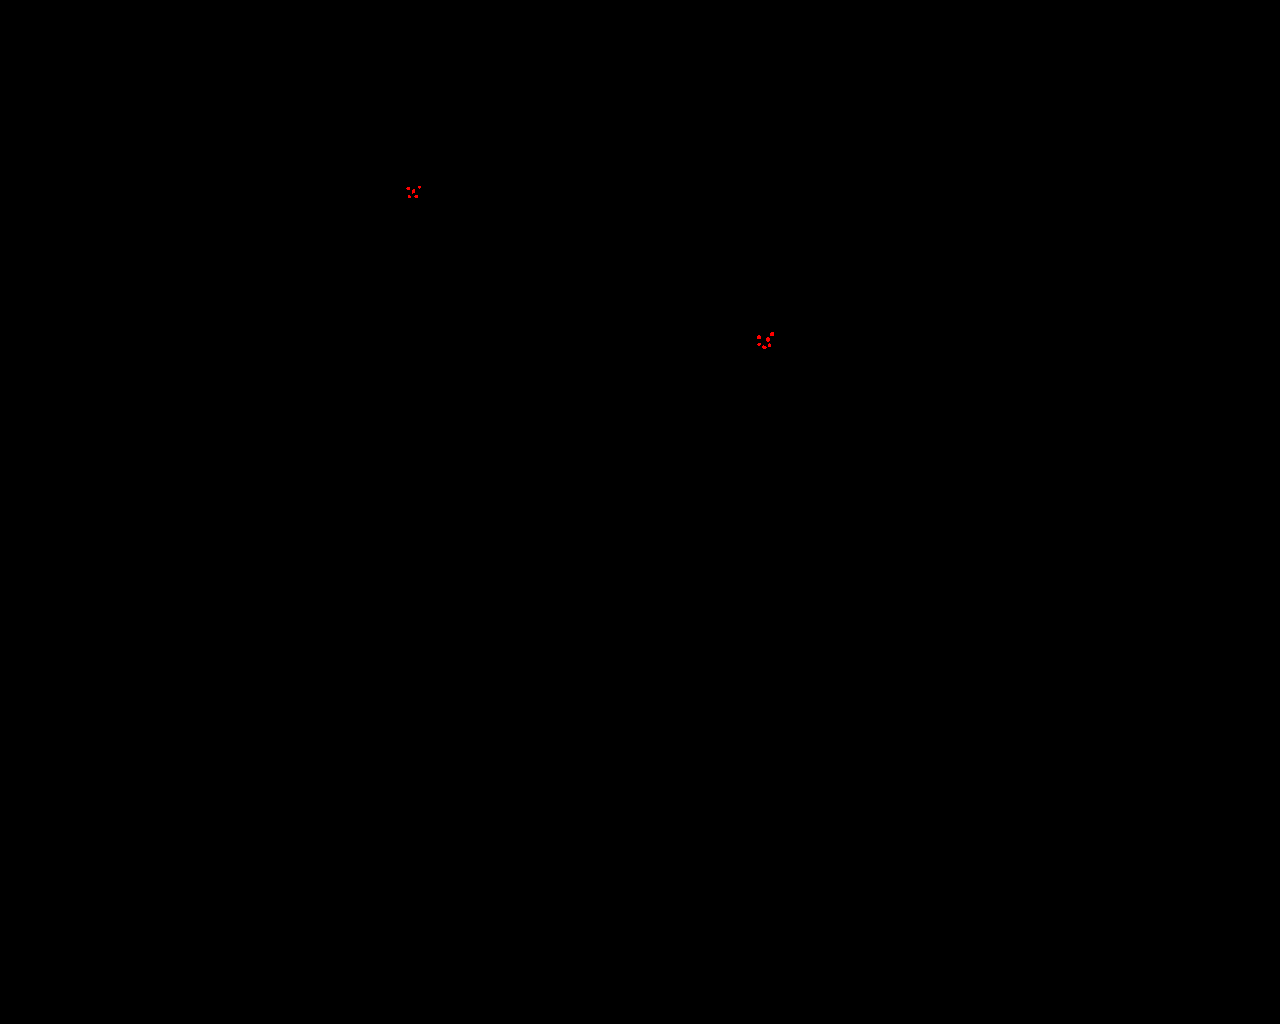Target: (762, 345, 767, 349), (770, 332, 774, 336), (766, 338, 770, 342), (412, 189, 415, 194), (757, 335, 761, 339), (757, 343, 761, 346), (768, 343, 771, 347), (418, 186, 421, 189), (406, 187, 410, 190), (414, 195, 418, 197), (408, 195, 411, 197)
